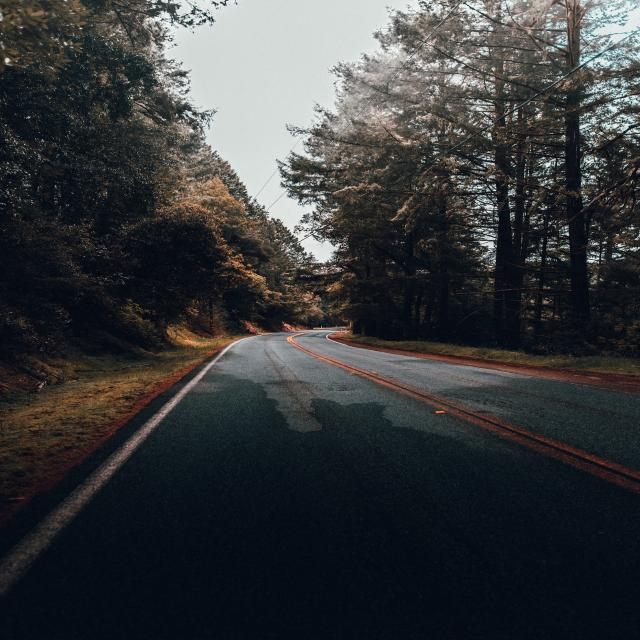Pothole: (5, 344, 222, 598)
